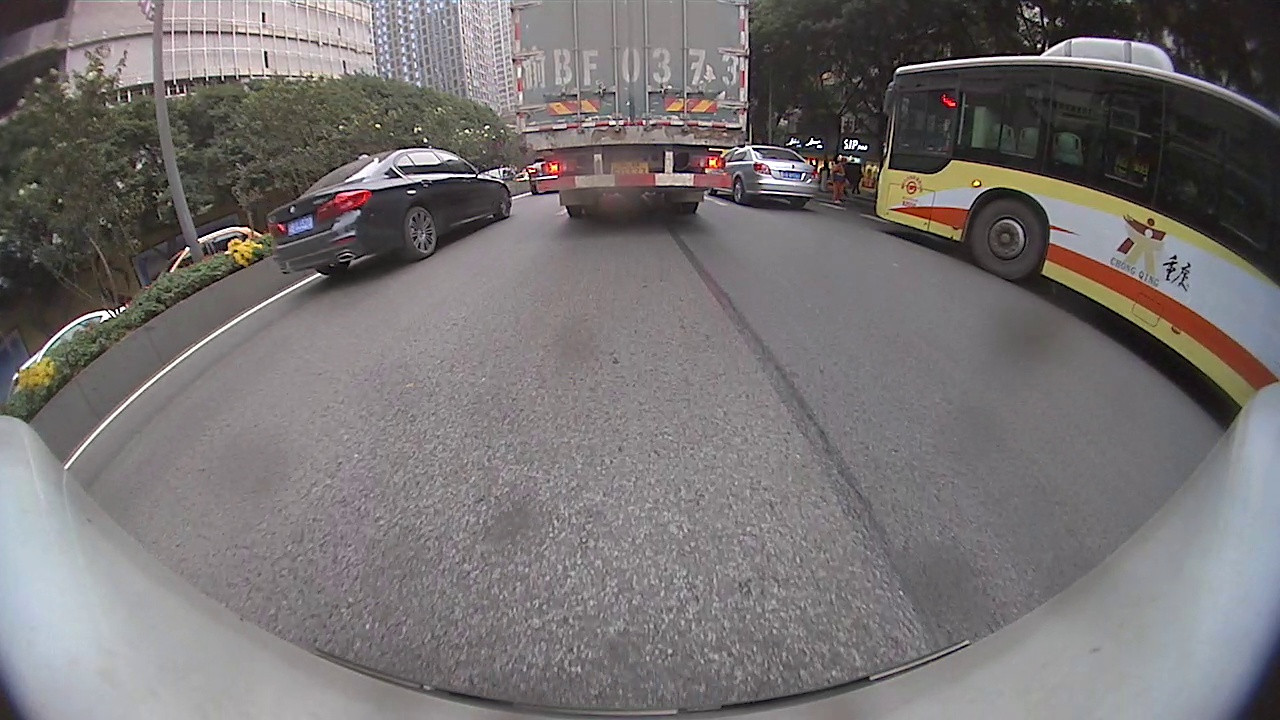bus: (873, 37, 1279, 408)
car: (263, 145, 511, 280), (707, 147, 818, 213)
front: (968, 195, 1048, 283), (494, 184, 510, 223)
rear: (398, 203, 439, 263), (731, 173, 747, 206)
truck: (511, 0, 751, 217)
